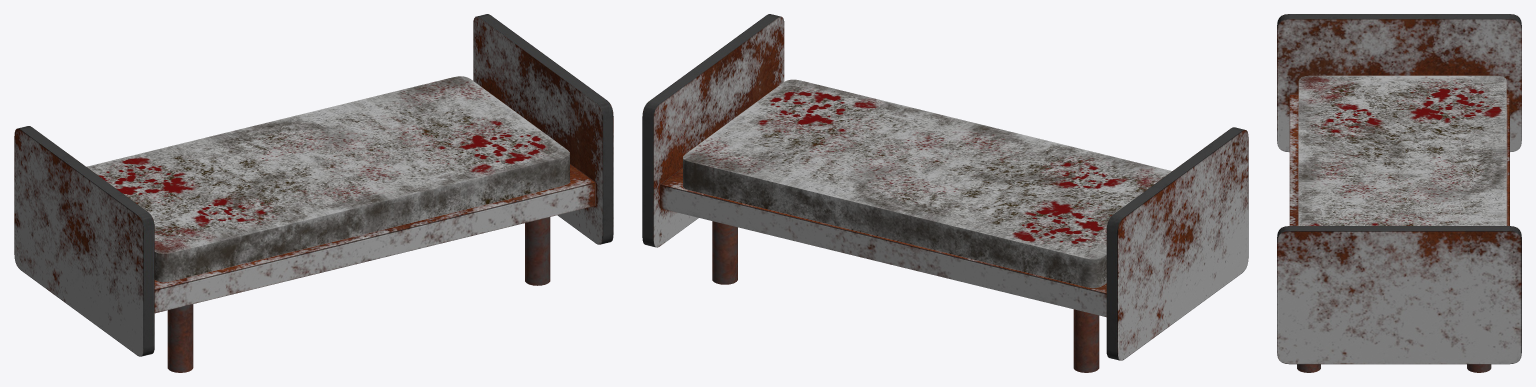
Rendered from medicine_bed.glb.
3 renders of one model, left to right at view 1: azimuth 30°, elevation 25°; view 2: azimuth 150°, elevation 25°; view 3: azimuth 270°, elevation 25°, orthographic. The views are drawn at different scales.
Visible parts, largest first — view 1: CAMA; view 2: CAMA; view 3: CAMA.
Boxes of the visible parts, x1,y1,x2,y2 form: CAMA: [14, 14, 613, 372]; CAMA: [642, 14, 1248, 372]; CAMA: [1277, 14, 1521, 372].
Size of the model in its own units: 210 by 73.95 by 100.
Materials: 3 (3 with a texture image).
